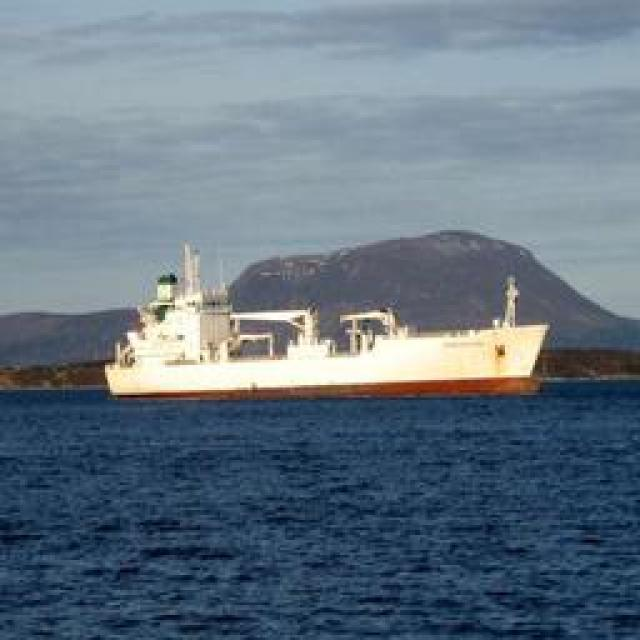CIV_Ship: (109, 280, 544, 402)
